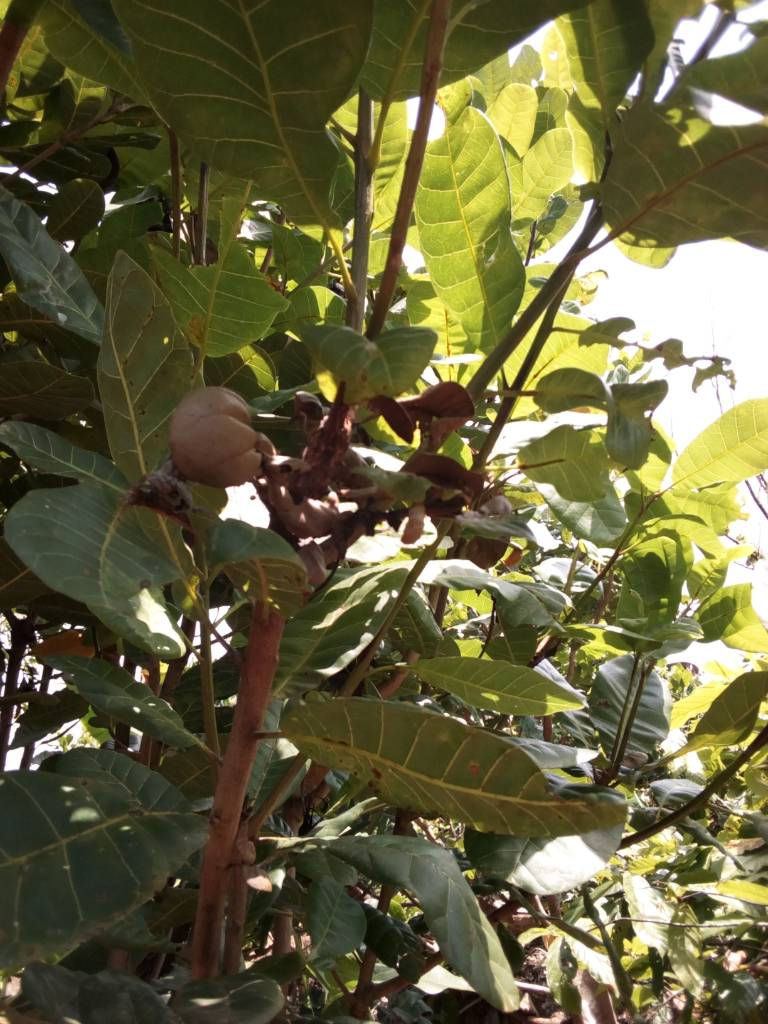Dessèchement des bourgeons: (133, 469, 194, 527)
